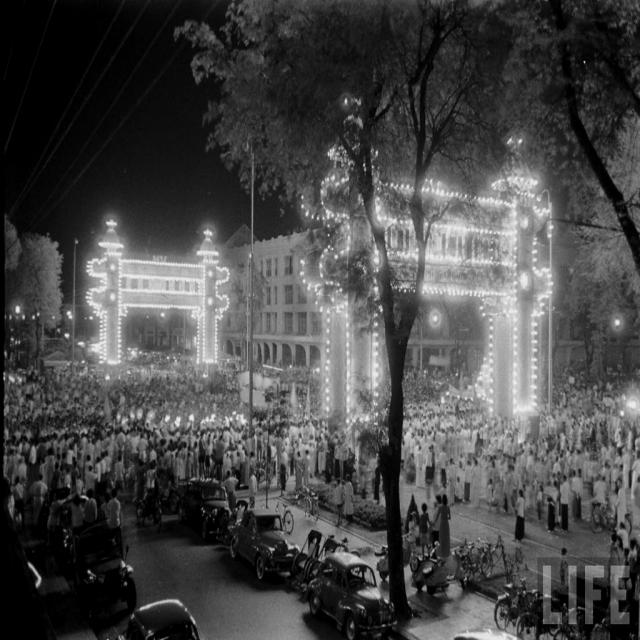car: (216, 512, 306, 597)
